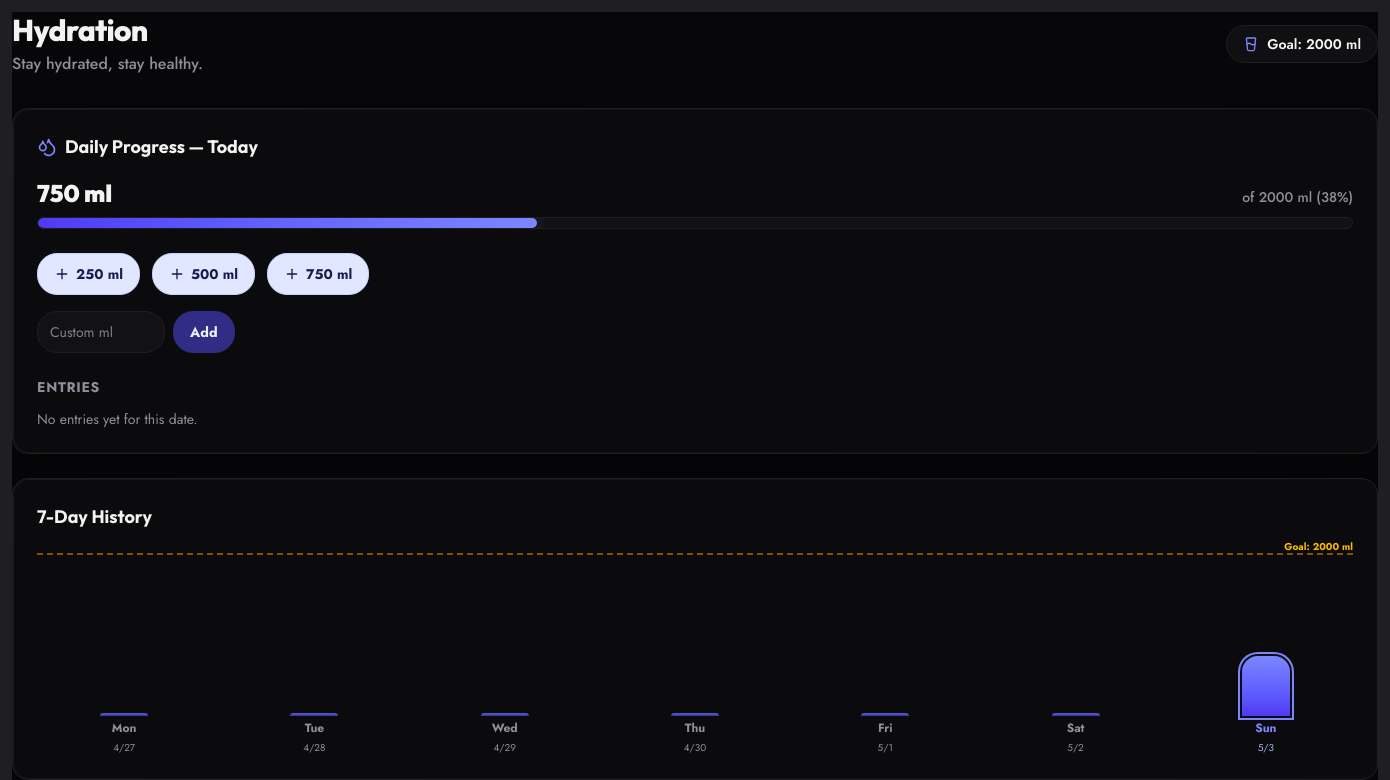
HydrationPage › custom amount input › shows error for empty custom amount
# Click Add without typing anything
Click the button "Add" at (204, 332), box [173, 311, 235, 353]
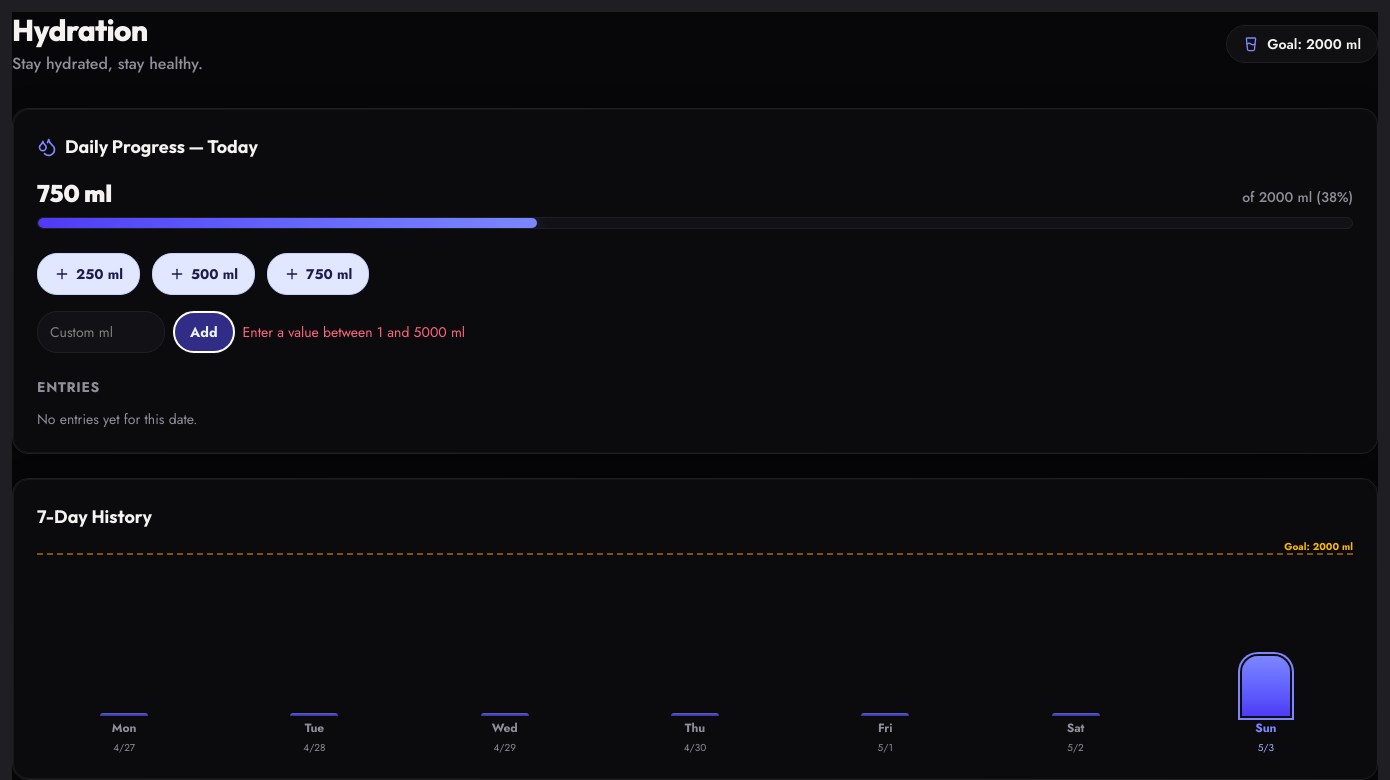
expect the text "Enter a value between 1 and 5000 ml" is shown: met, box [243, 322, 465, 342]
